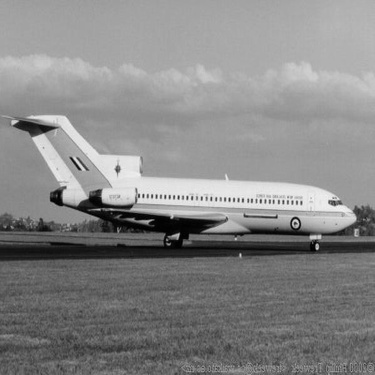airplane: (1, 93, 362, 246)
